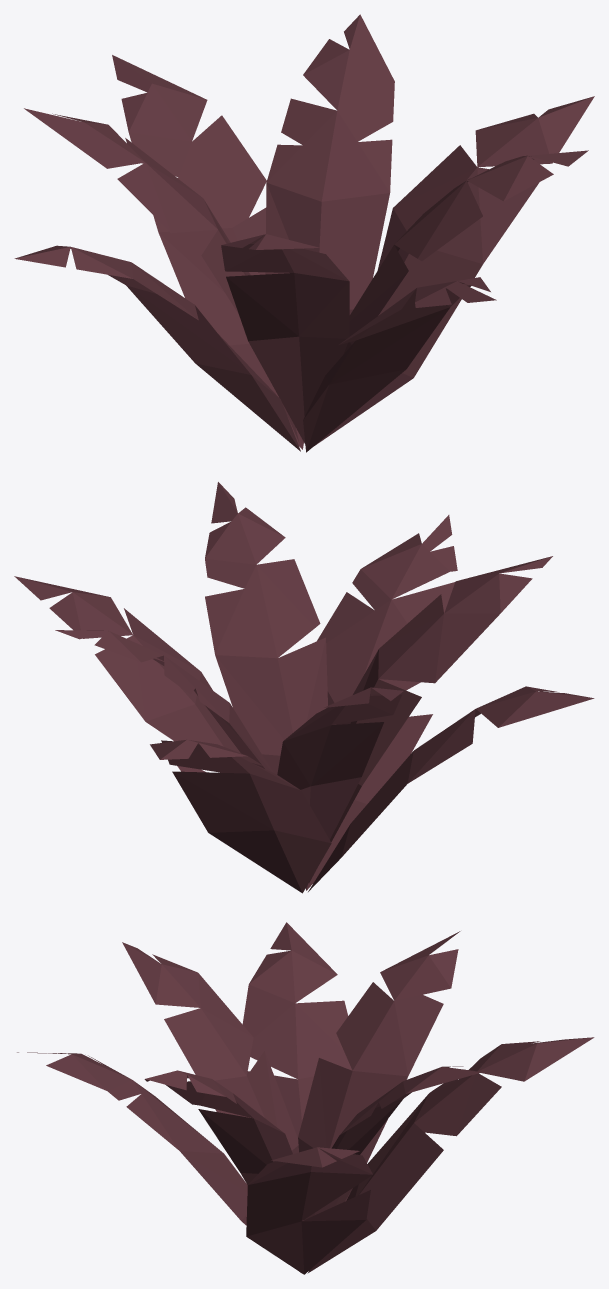
The model's file is palm-bush-big.fbx.
3 renders of one model, top to bottom at view 1: azimuth 30°, elevation 25°; view 2: azimuth 150°, elevation 25°; view 3: azimuth 270°, elevation 25°, orthographic. The views are drawn at different scales.
Visible parts, largest first — view 1: palm-bush-big; view 2: palm-bush-big; view 3: palm-bush-big.
Part boxes in pixels (bbox=[...]): palm-bush-big: bbox=[14, 14, 594, 452]; palm-bush-big: bbox=[14, 482, 594, 893]; palm-bush-big: bbox=[17, 922, 594, 1274].
Size of the model in its own units: 3.11 by 1.61 by 3.11.
